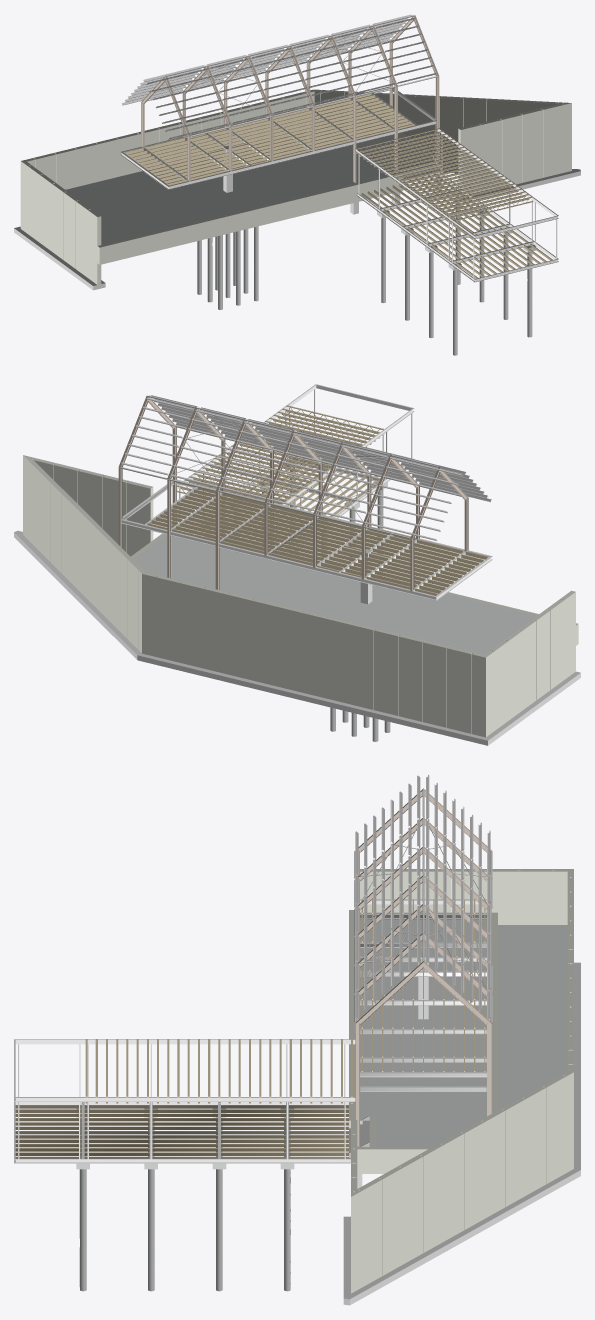
Rendered from revit-compressed.glb.
3 renders of one model, top to bottom at view 1: azimuth 30°, elevation 25°; view 2: azimuth 150°, elevation 25°; view 3: azimuth 270°, elevation 25°, orthographic. The views are drawn at different scales.
Parts seen in each view (by area): view 1: Insitu Concrete.001, CL_W1.002, Insitu Concrete, Insitu Concrete 250mm, Part.039, Part.040, Part.038, Part.021, Part.037, Part.036, Part.028, Part.006 (+22 smaller); view 2: Insitu Concrete.001, Insitu Concrete, Bearing Footing - 900 x 300.001, Part, Part.004, Part.005, Part.006, Part.013, Part.003, Part.008, Part.011, Part.014 (+34 smaller); view 3: Insitu Concrete.001, Insitu Concrete 250mm, Insitu Concrete, Bearing Footing - 900 x 300.003, Part.018, Part.020, Part.022, Part.024, Part.026, Part.019, Part.021, Part.023 (+27 smaller).
Part boxes in pixels (x1=…): Insitu Concrete.001: x1=142, y1=129, x2=430, y2=223; CL_W1.002: x1=97, y1=172, x2=403, y2=264; Insitu Concrete: x1=83, y1=188, x2=189, y2=244; Insitu Concrete 250mm: x1=65, y1=129, x2=352, y2=200; Part.039: x1=521, y1=108, x2=543, y2=182; Part.040: x1=541, y1=104, x2=564, y2=177; Part.038: x1=500, y1=113, x2=522, y2=186; Part.021: x1=439, y1=96, x2=463, y2=166; Part.037: x1=479, y1=118, x2=501, y2=191; Part.036: x1=458, y1=123, x2=481, y2=195; Part.028: x1=87, y1=209, x2=101, y2=284; Part.006: x1=95, y1=138, x2=118, y2=181; Insitu Concrete.001: x1=133, y1=535, x2=466, y2=637; Insitu Concrete: x1=415, y1=599, x2=536, y2=654; Bearing Footing - 900 x 300.001: x1=137, y1=653, x2=475, y2=741; Part: x1=155, y1=575, x2=181, y2=662; Part.004: x1=447, y1=646, x2=473, y2=733; Part.005: x1=398, y1=634, x2=424, y2=721; Part.006: x1=374, y1=628, x2=400, y2=715; Part.013: x1=203, y1=587, x2=229, y2=674; Part.003: x1=422, y1=640, x2=448, y2=727; Part.008: x1=325, y1=616, x2=351, y2=703; Part.011: x1=252, y1=599, x2=278, y2=686; Part.014: x1=179, y1=581, x2=205, y2=668; Insitu Concrete.001: x1=360, y1=977, x2=486, y2=1146; Insitu Concrete 250mm: x1=498, y1=925, x2=567, y2=1109; Insitu Concrete: x1=360, y1=912, x2=486, y2=971; Bearing Footing - 900 x 300.003: x1=347, y1=1169, x2=580, y2=1305; Part.018: x1=378, y1=1166, x2=403, y2=1275; Part.020: x1=419, y1=1143, x2=444, y2=1252; Part.022: x1=460, y1=1120, x2=485, y2=1229; Part.024: x1=501, y1=1097, x2=526, y2=1206; Part.026: x1=542, y1=1074, x2=567, y2=1183; Part.019: x1=398, y1=1155, x2=423, y2=1264; Part.021: x1=439, y1=1132, x2=464, y2=1241; Part.023: x1=480, y1=1109, x2=505, y2=1218.
Size of the model in its own units: 115 by 53.79 by 81.98.
